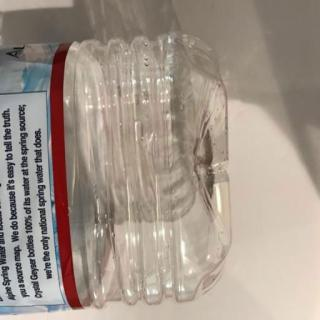Plastic-bottle: (1, 32, 237, 318)
